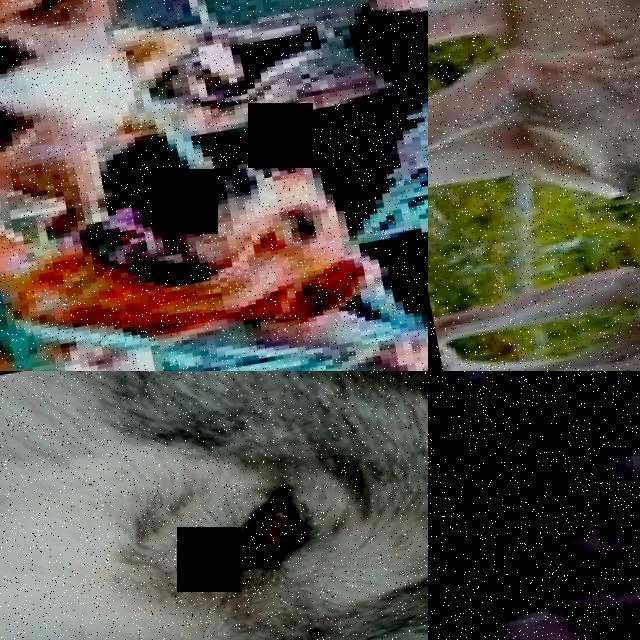dog: (0, 126, 407, 371), (428, 371, 640, 640), (0, 0, 207, 263), (428, 371, 640, 560), (0, 290, 279, 371), (0, 0, 328, 43)
wolf: (0, 371, 428, 640), (428, 0, 640, 371)
